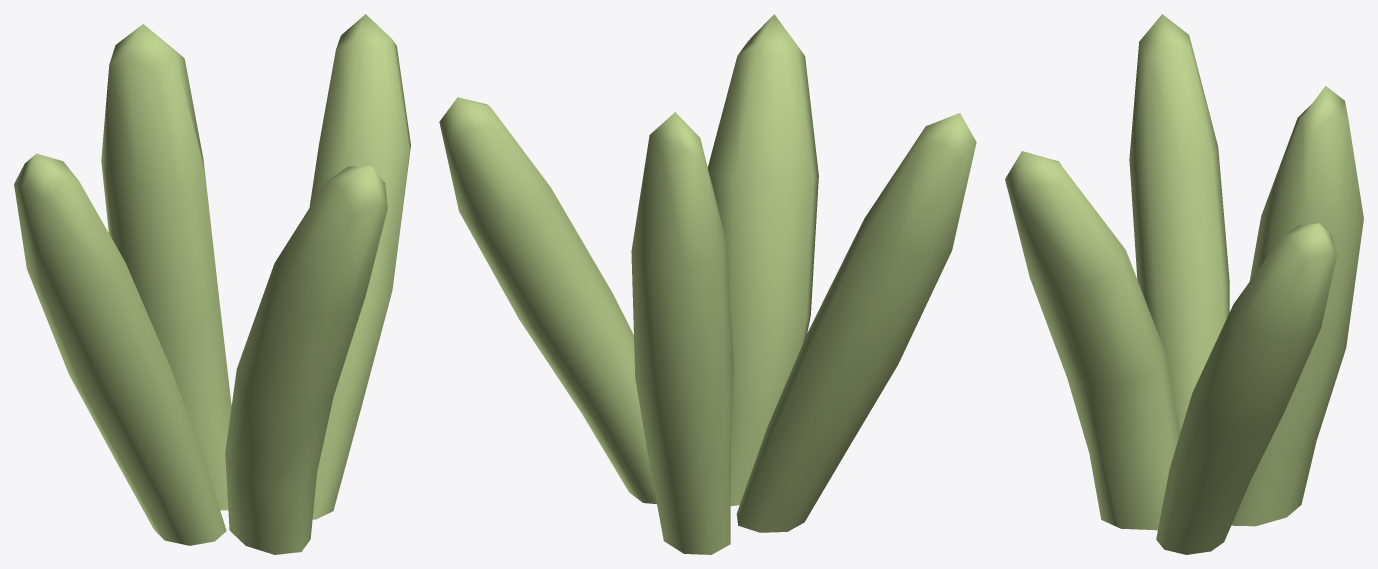
The model's file is Grass_09.fbx.
The picture shows the model from 3 angles, left to right: view 1: azimuth 30°, elevation 25°; view 2: azimuth 150°, elevation 25°; view 3: azimuth 270°, elevation 25°; orthographic projection. The views are drawn at different scales.
Visible parts, largest first — view 1: polySurface834; view 2: polySurface834; view 3: polySurface834.
Boxes of the visible parts, <box> form: polySurface834: <box>14,14,410,554</box>; polySurface834: <box>439,14,976,554</box>; polySurface834: <box>1005,14,1363,554</box>.
Bounding box in the file's own units: 33.44 × 31.8 × 24.8.
